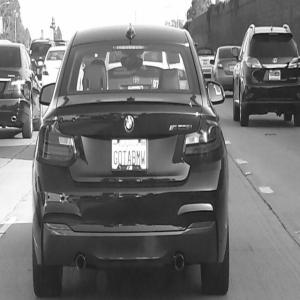Plate: (111, 138, 148, 170)
